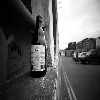beer: (30, 12, 47, 75)
